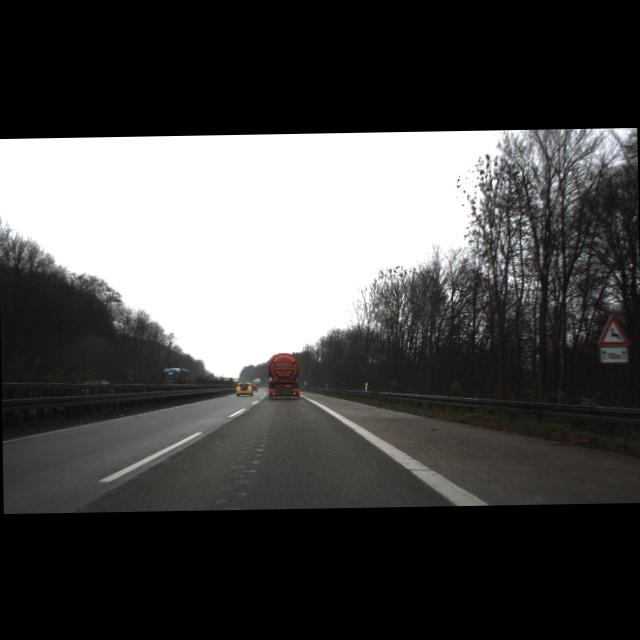danger: (596, 312, 630, 346)
